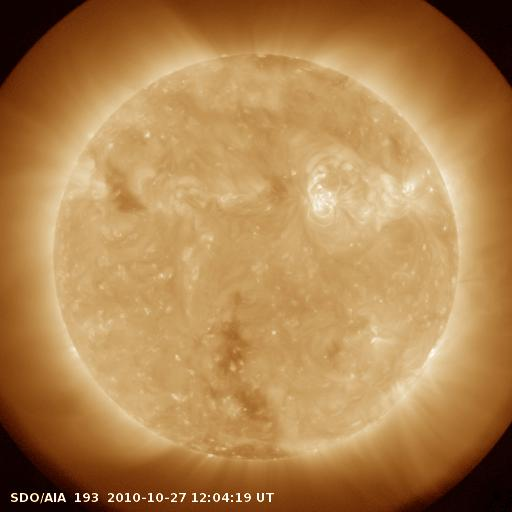coronal_hole: (206, 289, 278, 468), (97, 162, 155, 214)
